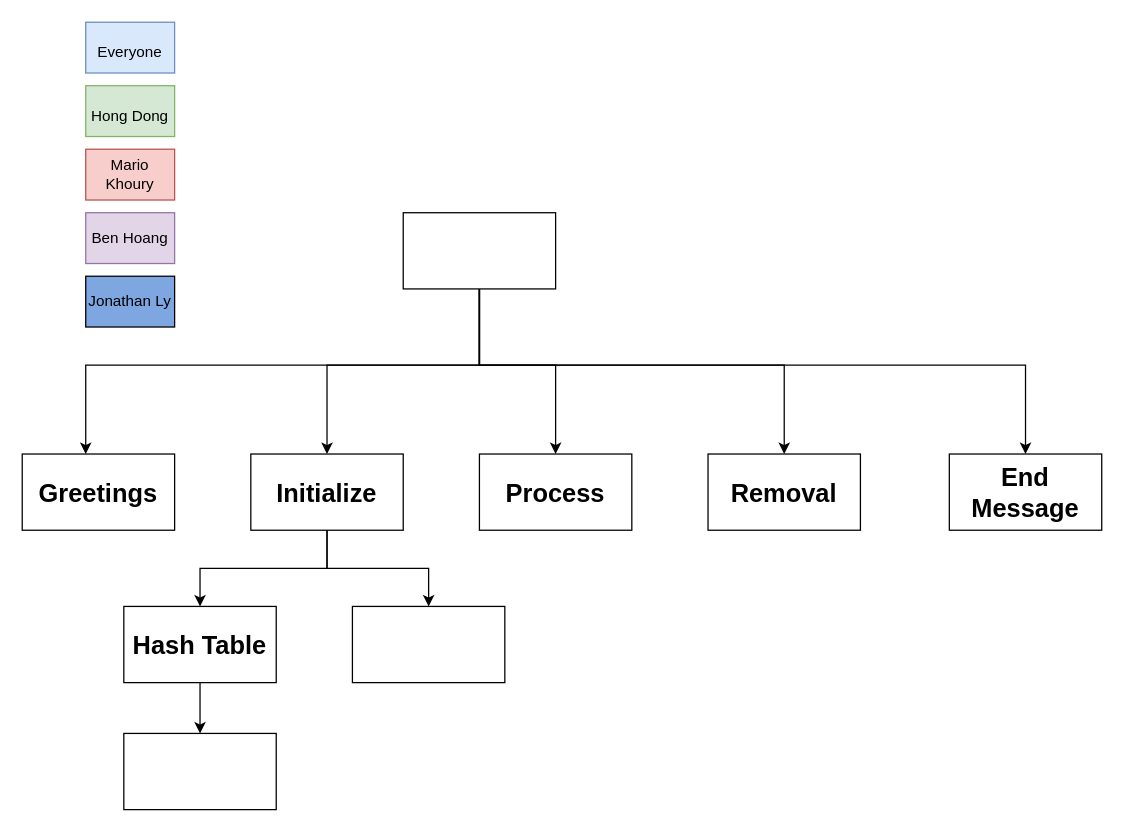
Image size: 1124x832. Some labels were removed from this diagram. The shapes that lost their labels are listed below. From the top down, each one's centre as x and y in pixels, then its label:
At (x=479, y=250): "main".
At (x=428, y=644): "BST".
At (x=199, y=771): "List".
